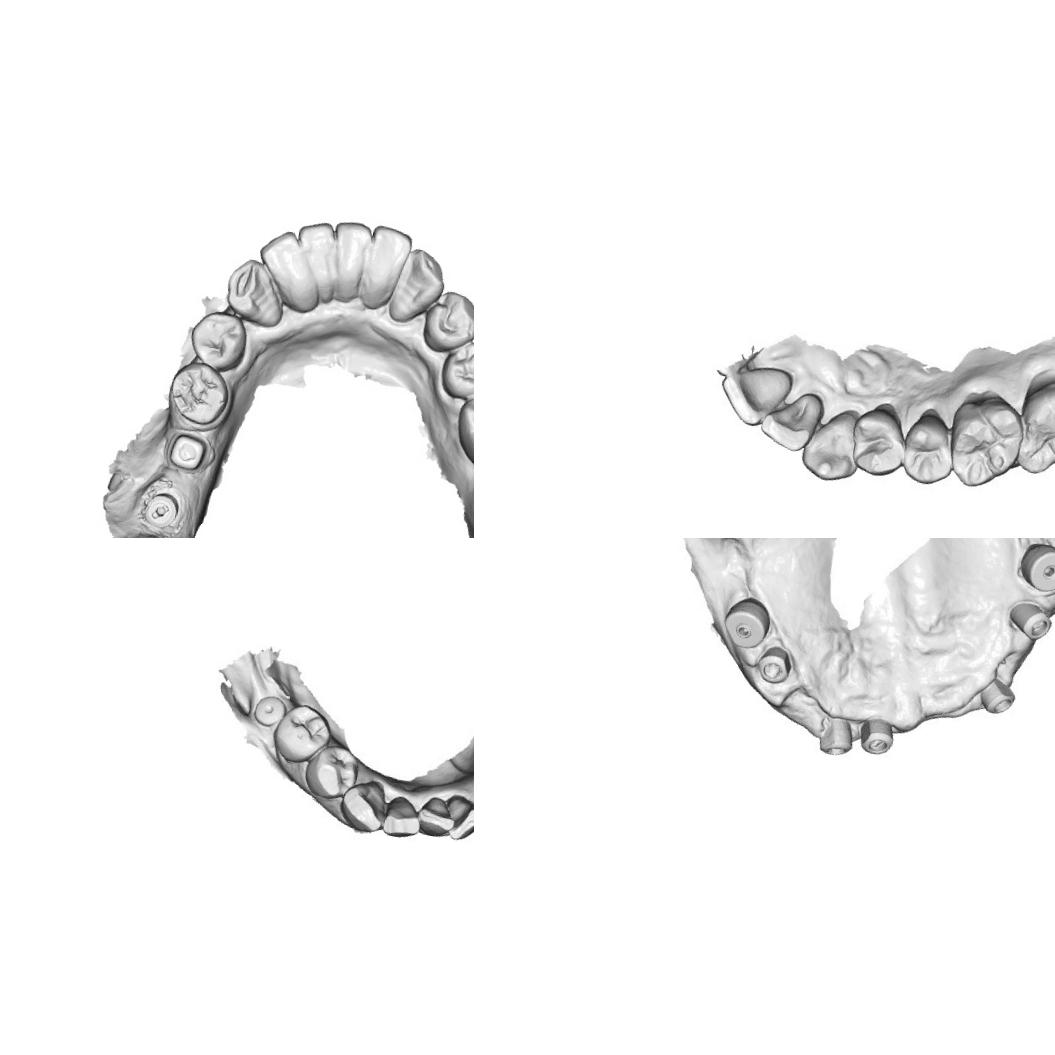abutment: (165, 427, 212, 474)
canine: (794, 402, 866, 488), (218, 253, 294, 332), (382, 240, 448, 328), (335, 783, 388, 839)
implant: (719, 593, 773, 651), (1004, 596, 1054, 643), (1015, 539, 1055, 595), (856, 714, 897, 758), (816, 714, 857, 758), (753, 642, 794, 686), (976, 675, 1018, 717), (251, 680, 285, 728)
implant_minus: (136, 486, 183, 534)
incisor: (247, 224, 330, 315), (714, 357, 795, 432), (285, 212, 346, 304), (356, 221, 416, 313), (320, 214, 378, 304), (754, 385, 824, 457), (387, 796, 423, 841), (419, 792, 454, 834), (445, 792, 474, 836)
molar: (937, 384, 1028, 494), (1009, 374, 1055, 481), (444, 374, 474, 482)
premolar: (162, 358, 243, 431), (896, 407, 962, 487), (182, 304, 256, 375), (844, 401, 910, 479), (412, 284, 474, 359), (272, 701, 328, 762), (429, 334, 474, 408), (301, 741, 357, 800)
